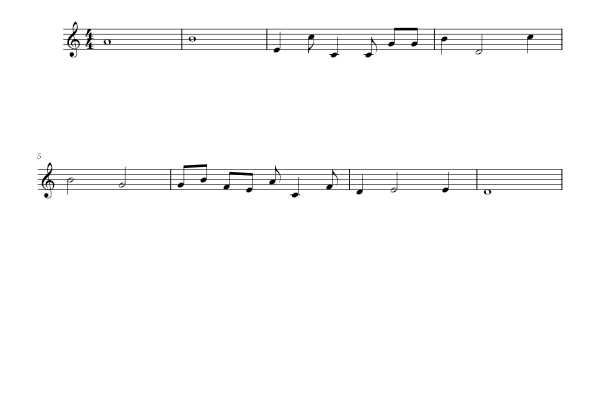Treble Clef: (64, 17, 83, 68), (39, 161, 59, 203)
